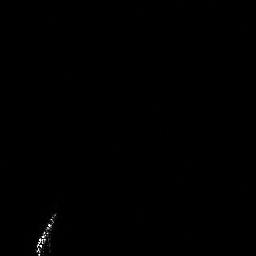ship: (31, 208, 60, 256)
